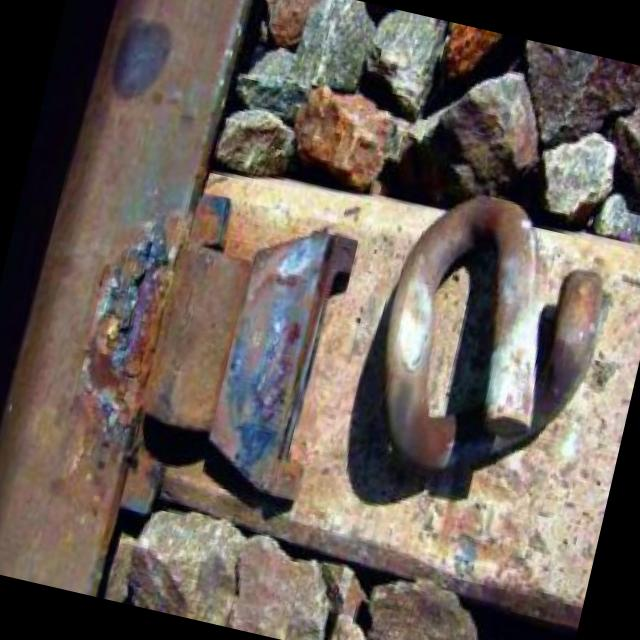defective: (0, 69, 453, 586)
